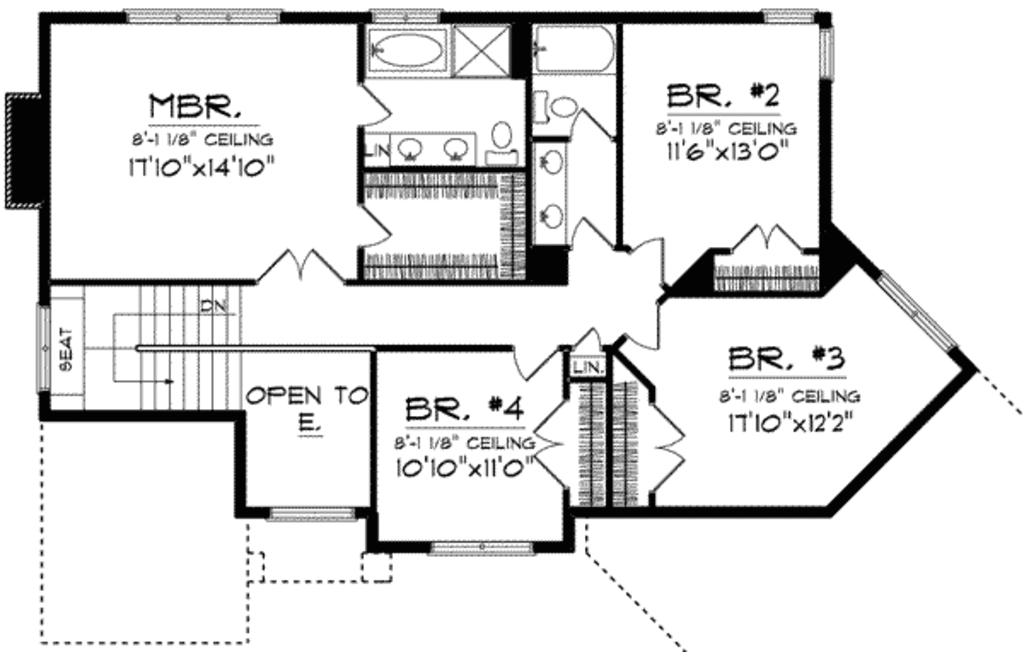door: (651, 399, 691, 498), (528, 401, 572, 483), (255, 247, 341, 287), (568, 215, 624, 255), (730, 221, 803, 251), (510, 342, 565, 381), (352, 195, 390, 249), (630, 232, 666, 286), (566, 109, 617, 144), (356, 84, 393, 127), (573, 327, 602, 349)
large_sink: (481, 116, 521, 171)
small_sink: (388, 129, 479, 165)
stairs: (48, 282, 243, 424)
tub: (530, 21, 617, 80), (366, 24, 450, 79)
windows: (878, 268, 956, 359), (116, 3, 280, 29), (419, 536, 534, 562), (261, 504, 357, 528), (757, 3, 817, 25), (812, 25, 835, 79)
